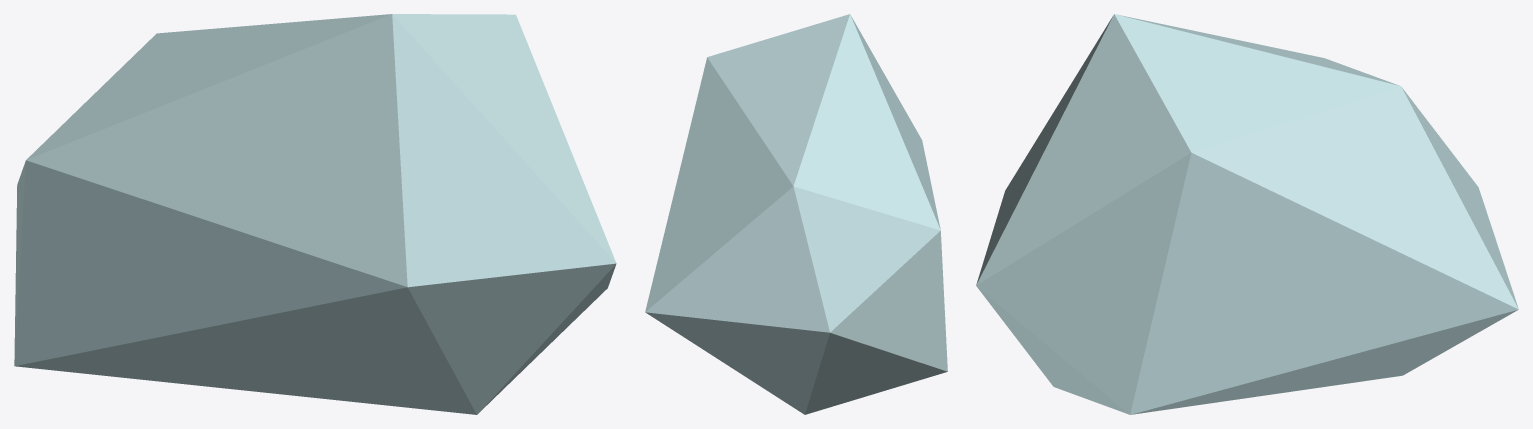
Rendered from Rock79.fbx.
The picture shows the model from 3 angles, left to right: view 1: azimuth 30°, elevation 25°; view 2: azimuth 150°, elevation 25°; view 3: azimuth 270°, elevation 25°; orthographic projection. The views are drawn at different scales.
Parts seen in each view (by area): view 1: pPlatonic1; view 2: pPlatonic1; view 3: pPlatonic1.
Boxes of the visible parts, box(x1,y1,x2,y2) form: pPlatonic1: box(14, 14, 616, 414); pPlatonic1: box(645, 14, 947, 414); pPlatonic1: box(976, 14, 1518, 414).
Bounding box in the file's own units: 1.46 × 1.28 × 1.57.
